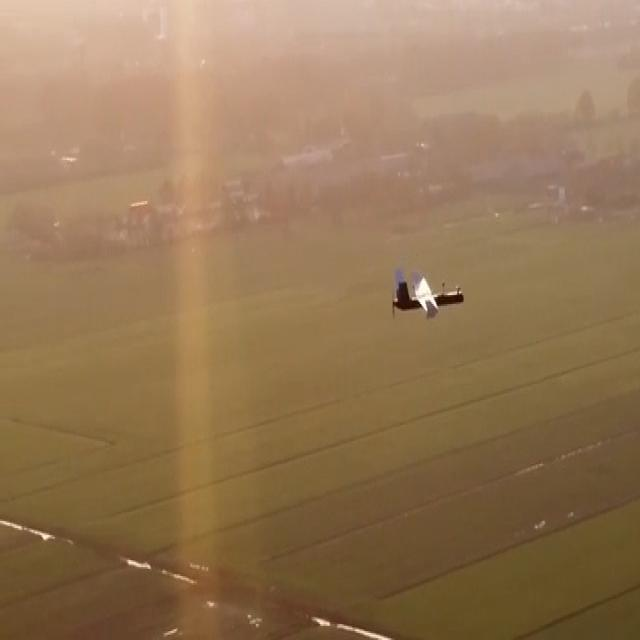drones: (385, 255, 470, 336)
